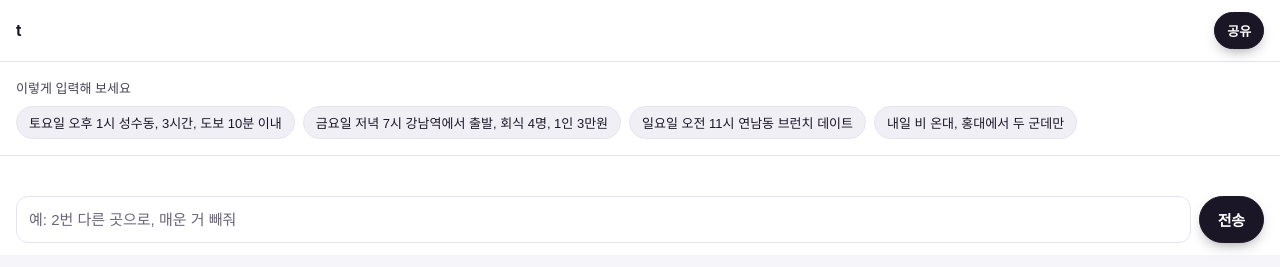
Test: ChatPanel › 조건을 보내면 코스를 갱신한다
Step 1. Type "성수동 3시간" into the field named "조건 입력" → (603, 220), box [16,196,1191,243]
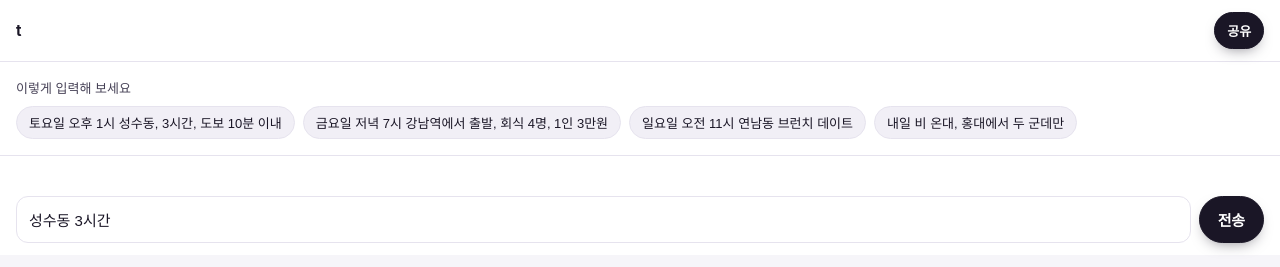
Step 2. Click the button "전송" → click(1231, 220), box [1199,196,1264,243]
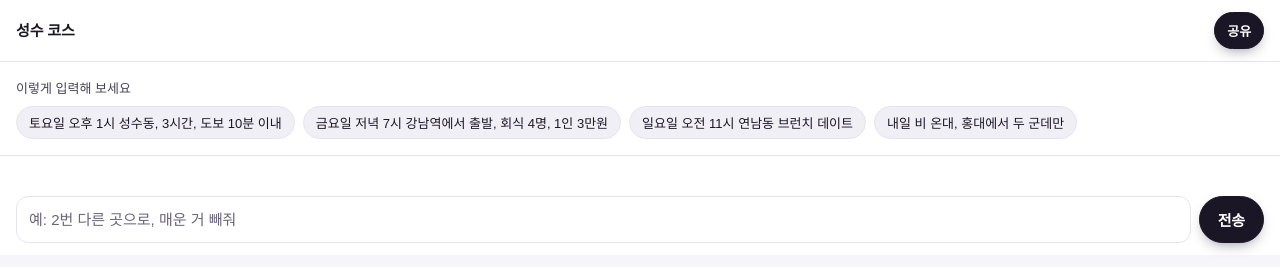
Check: the button "성수 코스" is shown, box [16,19,75,42]
